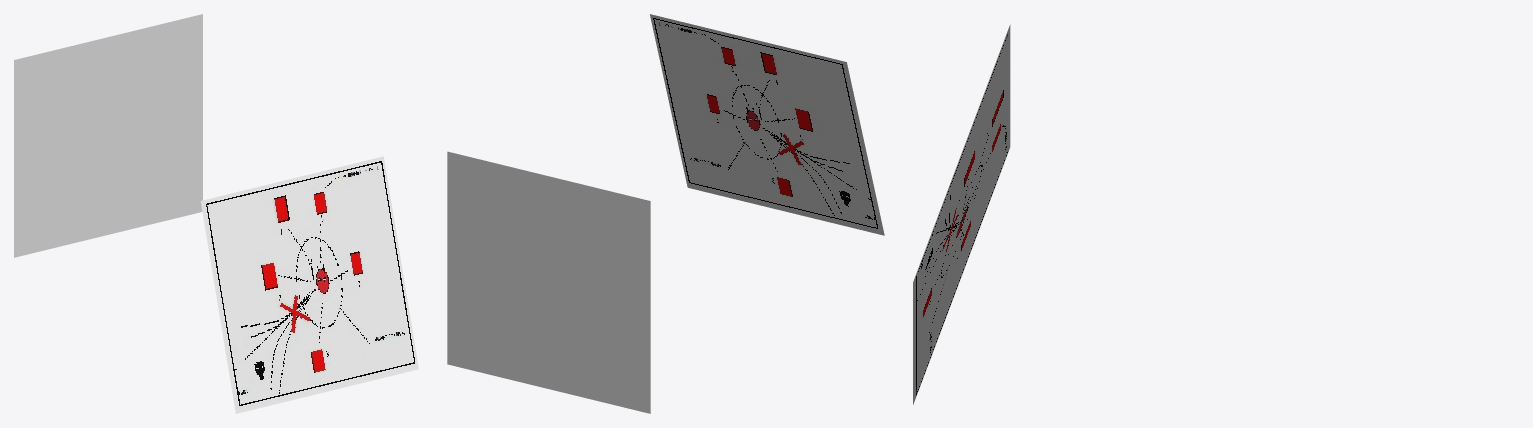
File: Stop evil.glb
3 views of the same model, side by side, from view 1: azimuth 30°, elevation 25°; view 2: azimuth 150°, elevation 25°; view 3: azimuth 270°, elevation 25° (orthographic). The views are drawn at different scales.
Visible parts, largest first — view 1: mesh_id29, mesh_id1; view 2: mesh_id1, mesh_id29; view 3: mesh_id29.
Boxes of the visible parts, x1,y1,x2,y2 form: mesh_id29: (200, 156, 418, 413); mesh_id1: (14, 14, 202, 257); mesh_id1: (447, 151, 650, 413); mesh_id29: (649, 14, 884, 235); mesh_id29: (913, 24, 1010, 404).
Size of the model in its own units: 0.162 by 0.162 by 0.3262.
Materials: 2 (2 with a texture image).
